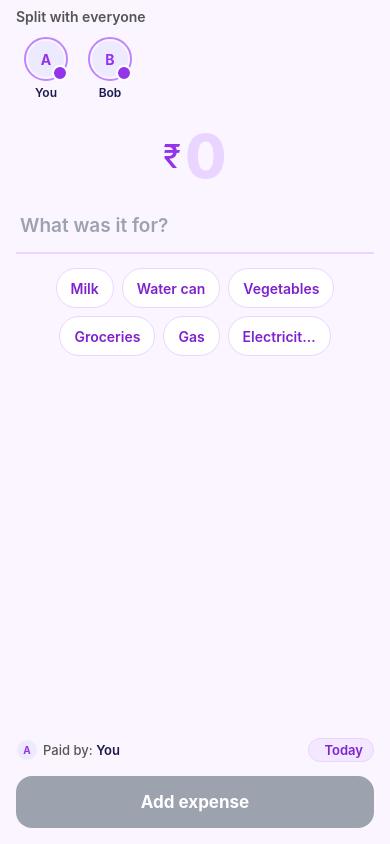
Test: AddGroceryScreen submit button › stays disabled until there is an amount and a description
expect the text "Split with everyone" is shown: met, box [16,8,146,25]
expect the button with test id "submit-button-ADD EXPENSE" is disabled: met, box [16,776,374,828]
Type "50" into the field with test id "amount-input-ADD EXPENSE" at (206, 156), box [185,120,227,192]
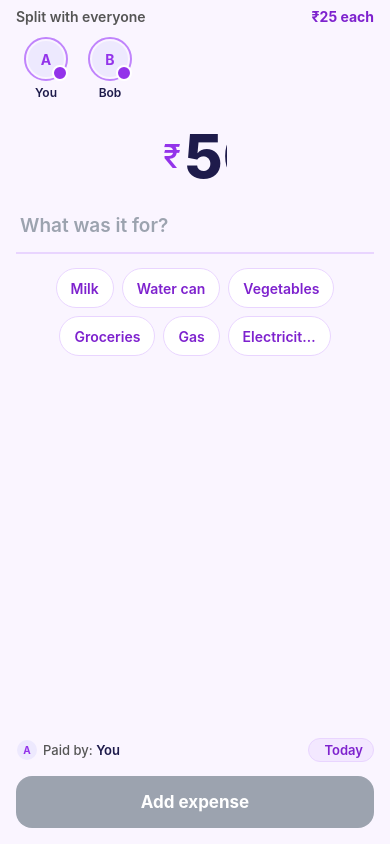
expect the button with test id "submit-button-ADD EXPENSE" is disabled: met, box [16,776,374,828]
Type "Milk" into the field labelled "What was it for" at (195, 226), box [20,208,370,243]
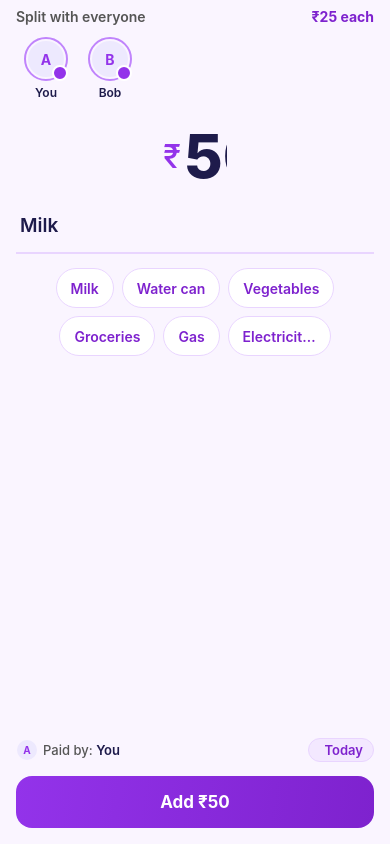
expect the button with test id "submit-button-ADD EXPENSE" is enabled: met, box [16,776,374,828]
expect the text "Add ₹50" is shown: met, box [160,792,230,812]
Clear the field with test id "amount-input-ADD EXPENSE" at (206, 156), box [185,120,227,192]
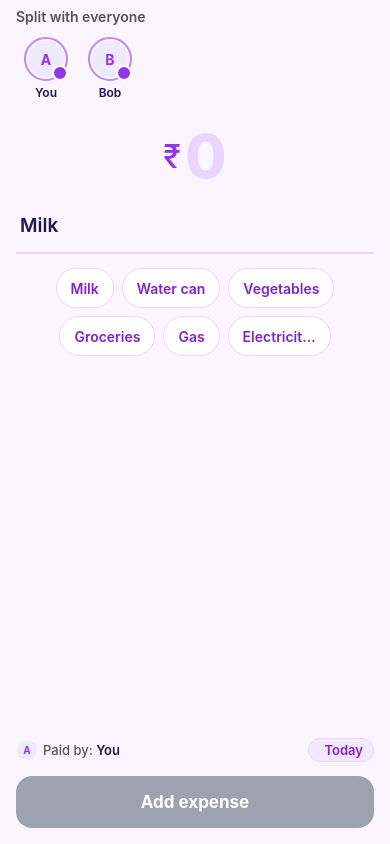
expect the button with test id "submit-button-ADD EXPENSE" is disabled: met, box [16,776,374,828]
